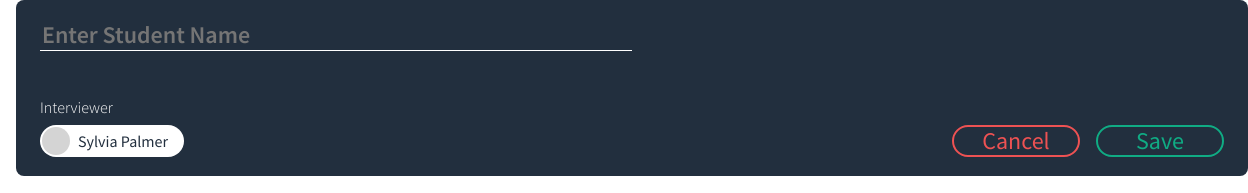
it: Form › can successfully save after trying to submit an empty student name
Click the button "Save" at [1160, 141], box [1096,125,1224,157]
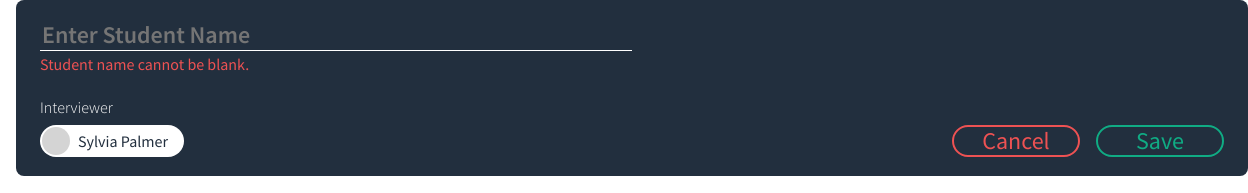
expect the text "Student name cannot be blank." is shown: met, box [40,54,249,74]
Type "Lydia Miller-Jones" into the field with placeholder "Enter Student Name" at [336, 35], box [40,19,632,51]
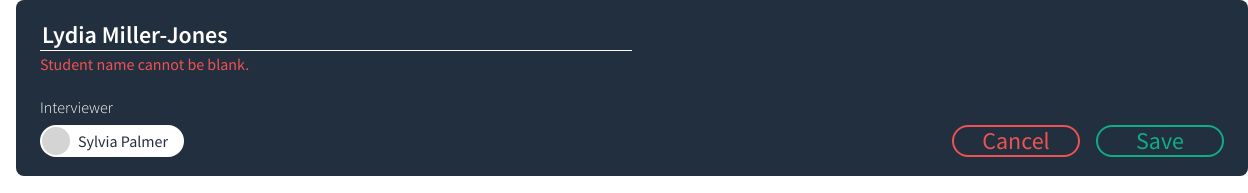
Click the button "Save" at [1160, 141], box [1096,125,1224,157]
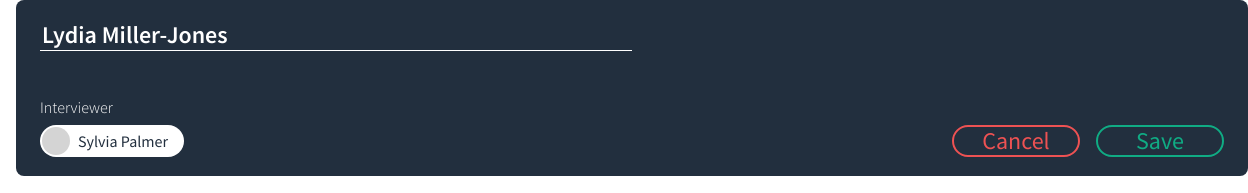
expect the text "Student name cannot be blank" is gone: met
